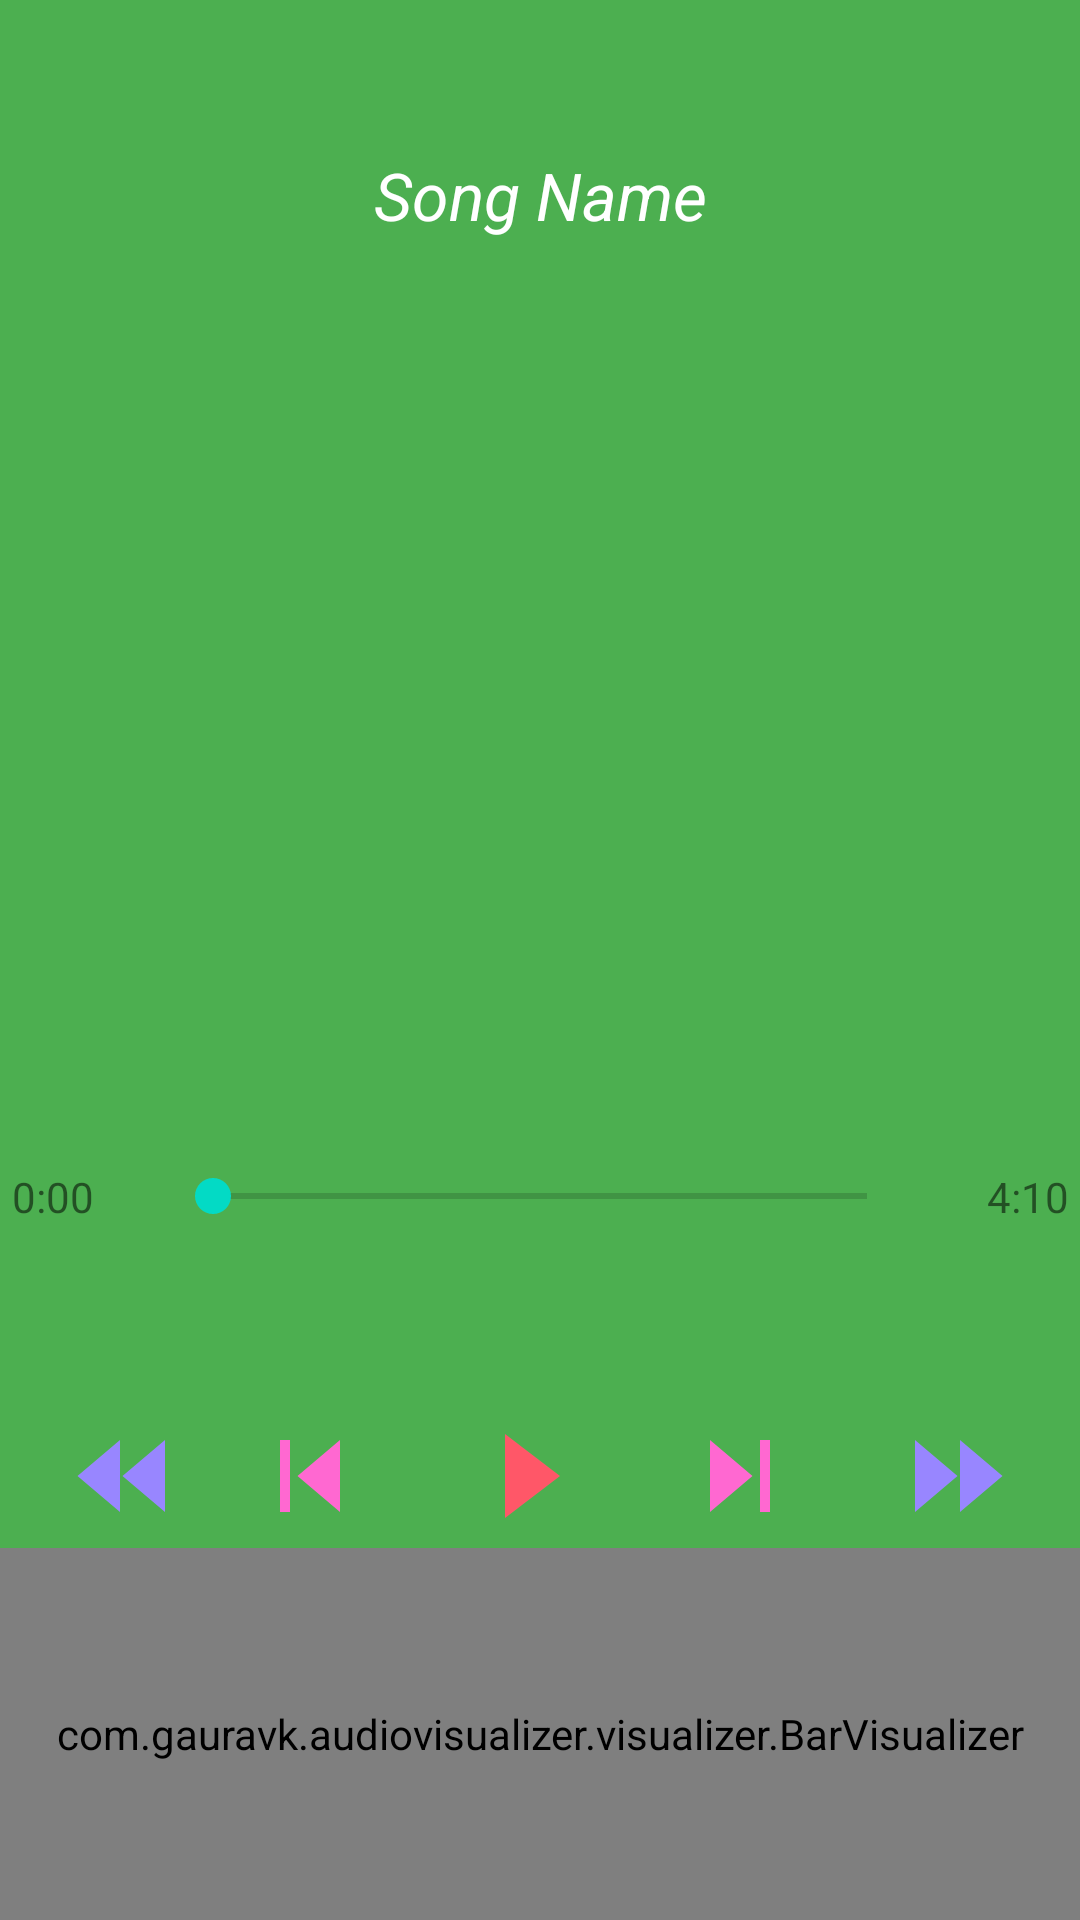

Icons on this 1080px x 1920px Android screen, each with its box as region(x1, y1, x2, y2):
fast forward: region(915, 1440, 1002, 1512)
fast rewind: region(78, 1440, 165, 1512)
skip next: region(710, 1440, 770, 1512)
skip previous: region(280, 1440, 340, 1512)
